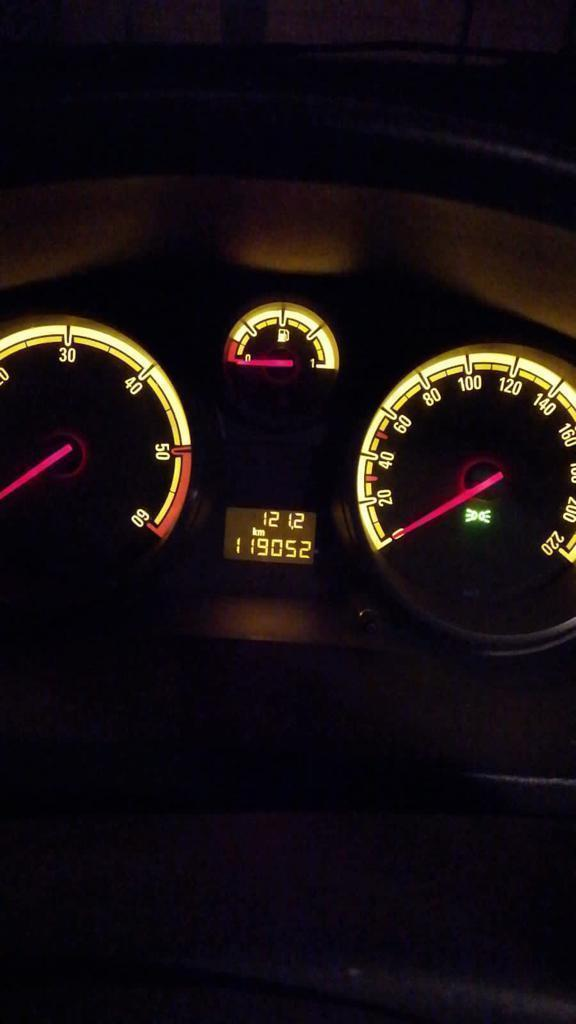,: (290, 525, 293, 530)
0: (269, 537, 282, 557)
1: (234, 534, 241, 555), (248, 537, 255, 555), (286, 511, 292, 527), (262, 510, 268, 526)
2: (298, 538, 312, 559), (268, 510, 280, 528), (293, 511, 305, 529)
5: (284, 538, 297, 558)
9: (256, 537, 269, 557)
X: (256, 528, 264, 536), (251, 526, 256, 536)
odometer: (220, 505, 318, 566)
